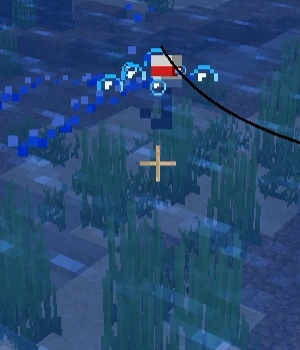up: (134, 46, 186, 134)
